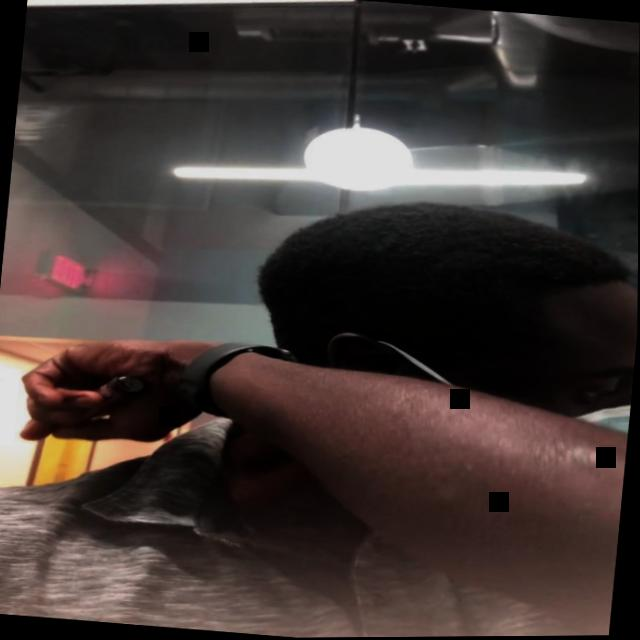Mask: (333, 258, 638, 449)
